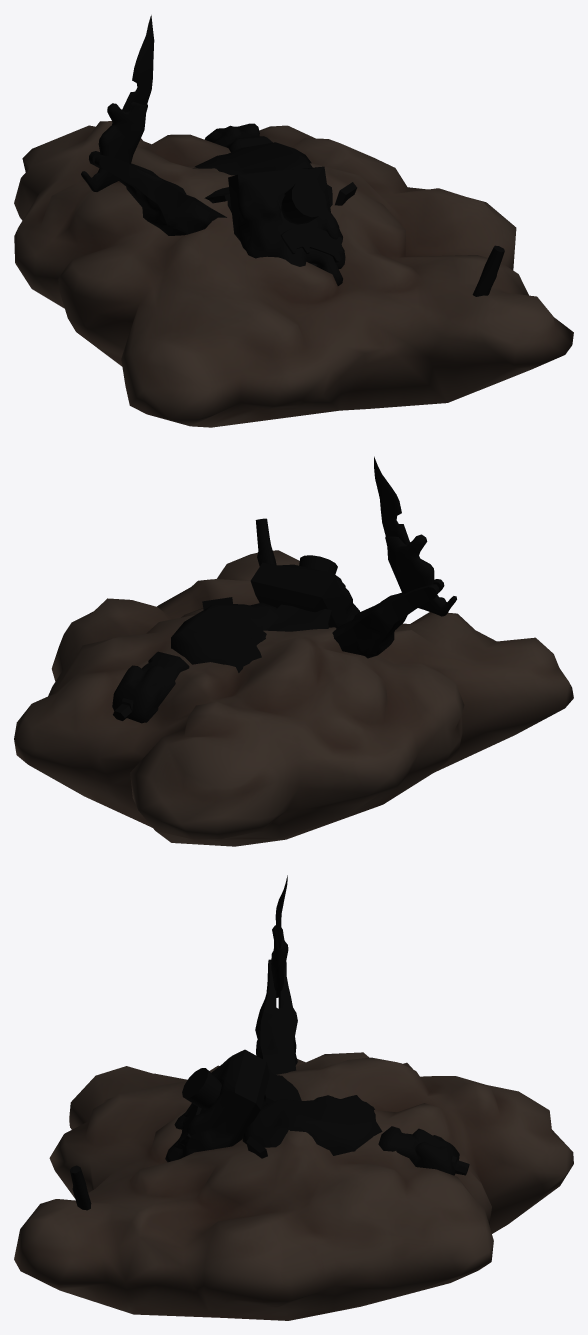
File: env_burntforest_meltedbot02.fbx
3 renders of one model, top to bottom at view 1: azimuth 30°, elevation 25°; view 2: azimuth 150°, elevation 25°; view 3: azimuth 270°, elevation 25°, orthographic. The views are drawn at different scales.
Visible parts, largest first — view 1: env_forest_meltedbot02; view 2: env_forest_meltedbot02; view 3: env_forest_meltedbot02.
Part boxes in pixels (x1,y1,x2,y2): env_forest_meltedbot02: (14,15,573,427); env_forest_meltedbot02: (14,456,573,846); env_forest_meltedbot02: (14,875,573,1320).
Size of the model in its own units: 18.71 by 15.6 by 22.05.
